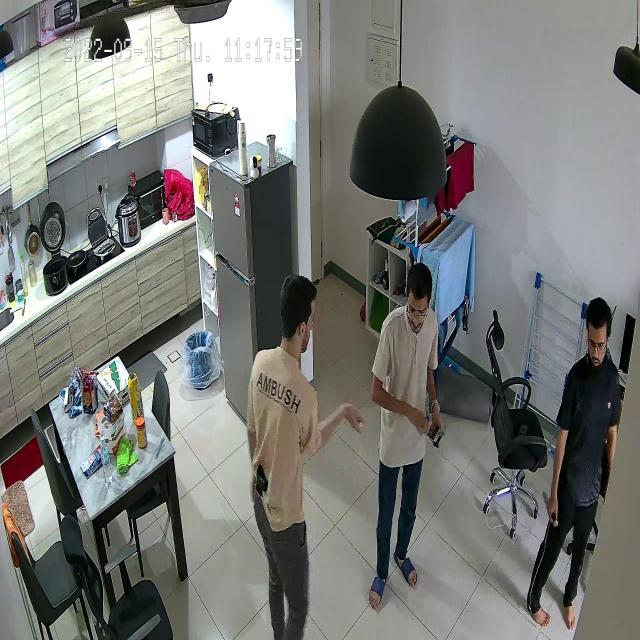Gun: (251, 460, 276, 506)
Knife: (538, 489, 560, 533)
